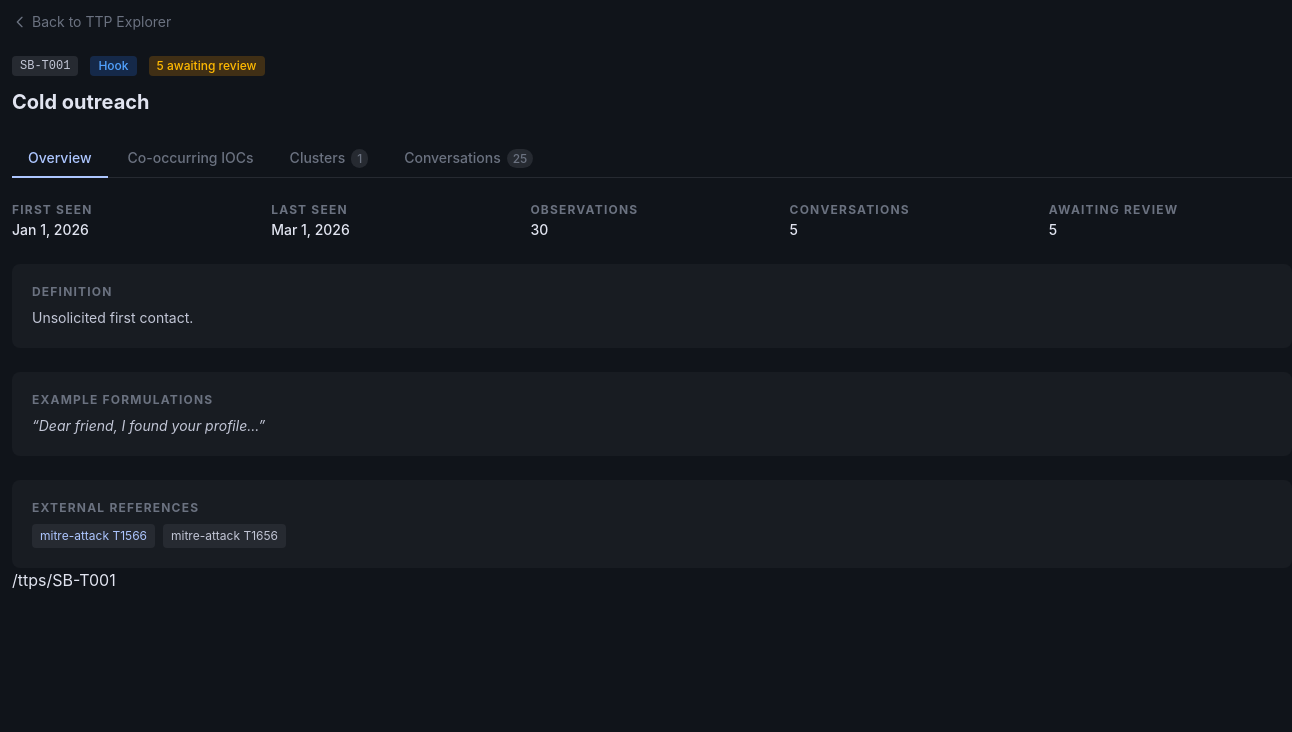
Test: TtpDetail › renders the clusters tab with cluster links and counters
Expected: the heading "Cold outreach" is shown, [12,90,150,114]
Click the button with test id "ttp-detail-tab-clusters": (329, 159) [274,140,384,178]
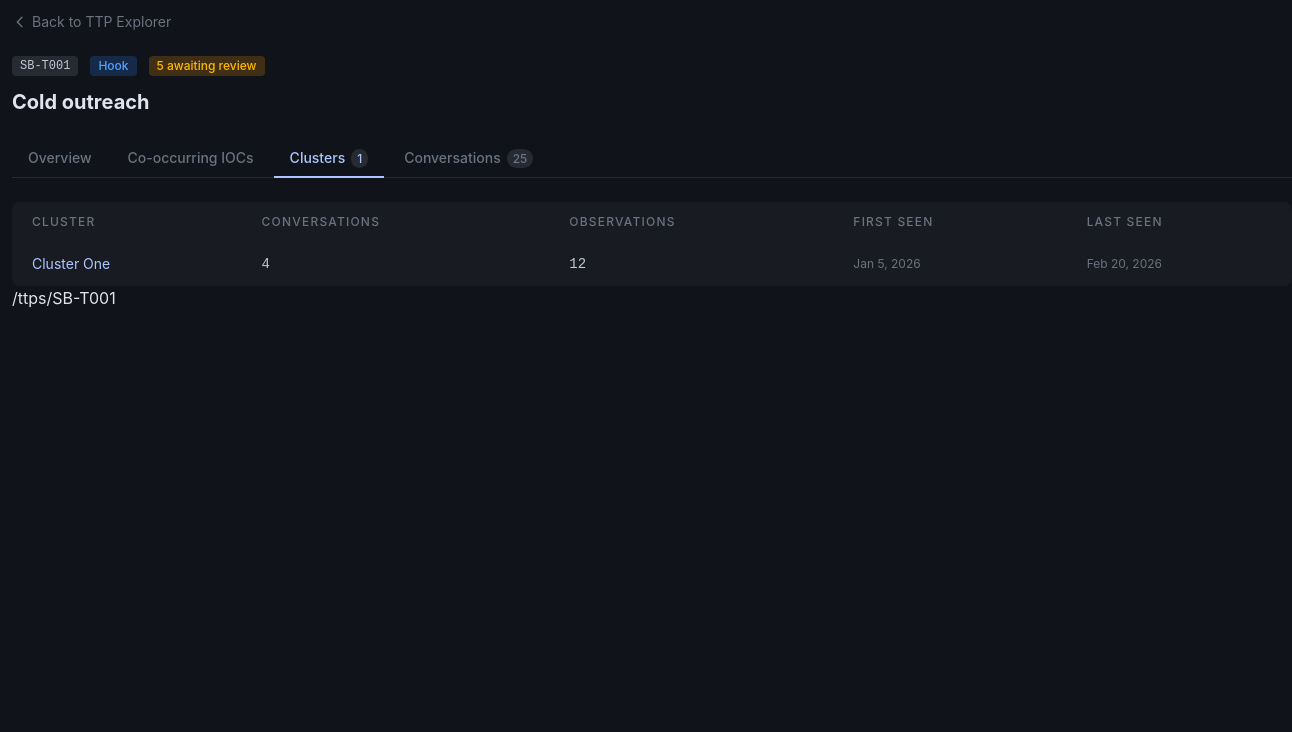
Expected: the link "Cluster One" is shown, [32,255,110,272]
Expected: the row with test id "ttp-cluster-row" shows "4", [262,256,270,272]
Expected: the row with test id "ttp-cluster-row" shows "12", [569,256,586,272]
